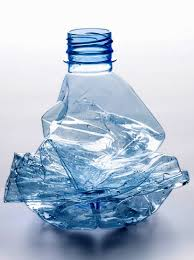plastic: (4, 28, 191, 233)
